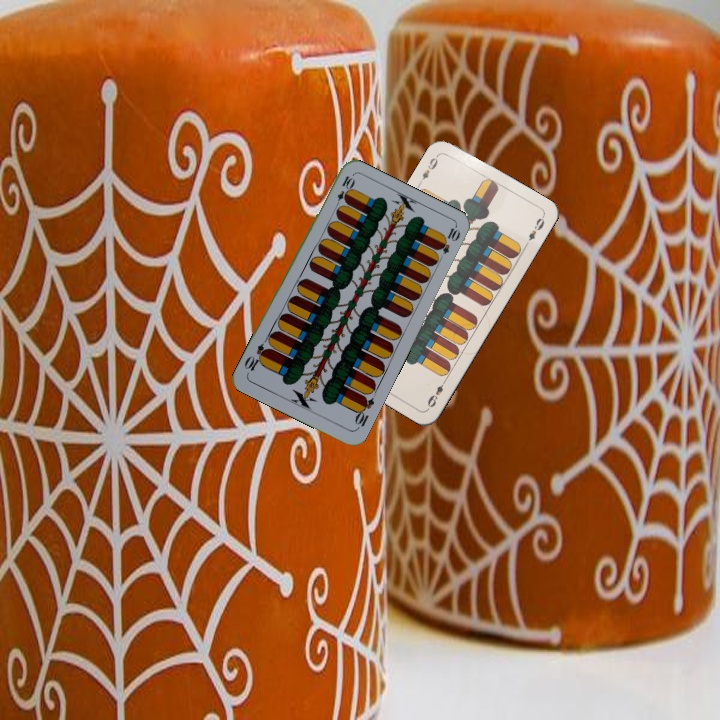E10: (350, 392, 377, 432), (331, 172, 356, 211)
E9: (415, 150, 442, 187), (423, 375, 450, 410)
